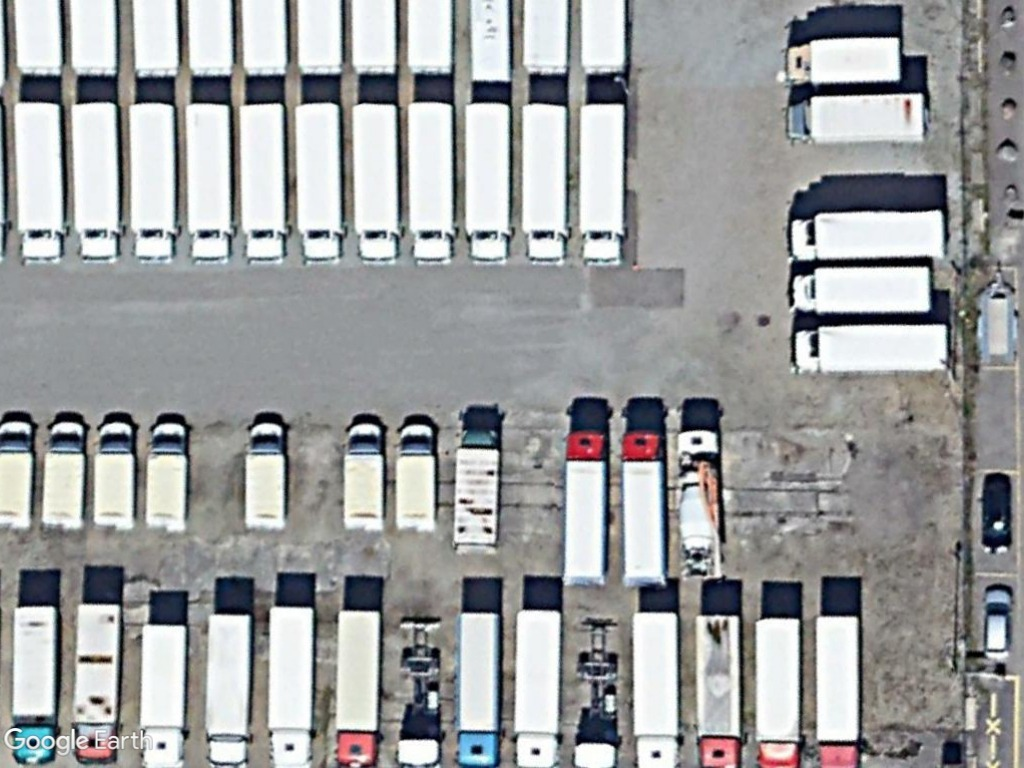car: (979, 583, 1012, 666)
truck: (787, 206, 948, 266), (68, 597, 125, 765), (11, 96, 67, 266), (507, 603, 564, 768), (792, 320, 952, 378), (403, 98, 457, 268), (263, 599, 317, 768), (70, 100, 125, 264), (291, 98, 345, 265), (348, 99, 401, 266), (236, 100, 289, 266), (575, 99, 627, 268), (127, 98, 180, 263), (463, 98, 514, 268), (182, 101, 235, 264), (628, 606, 679, 768), (519, 97, 568, 265), (783, 91, 928, 147), (620, 429, 670, 591), (201, 610, 252, 768), (333, 604, 382, 768), (751, 611, 802, 768), (136, 619, 189, 768), (811, 611, 861, 768), (11, 603, 59, 766), (563, 425, 611, 587), (694, 611, 743, 768), (788, 264, 933, 317), (456, 608, 500, 768), (782, 32, 906, 87), (449, 425, 502, 549), (140, 419, 190, 532), (41, 416, 87, 535), (242, 420, 288, 532), (94, 417, 137, 533), (390, 420, 434, 533), (341, 420, 384, 534)
